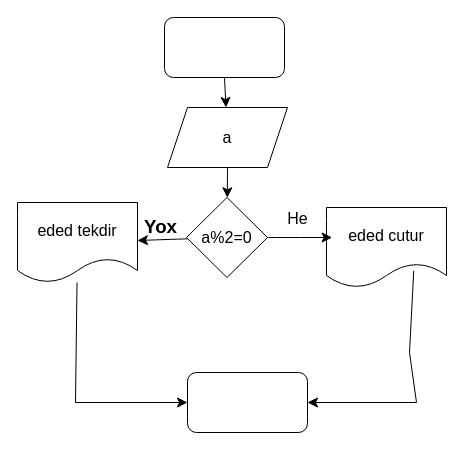
The diagram is 464 pixels wide and 450 high, and some of its shapes have lost their labels. The box of each missing label's shape, as (x1, y1, x2, y2) in pixels:
son: (186, 372, 308, 432)
start: (164, 16, 284, 78)
